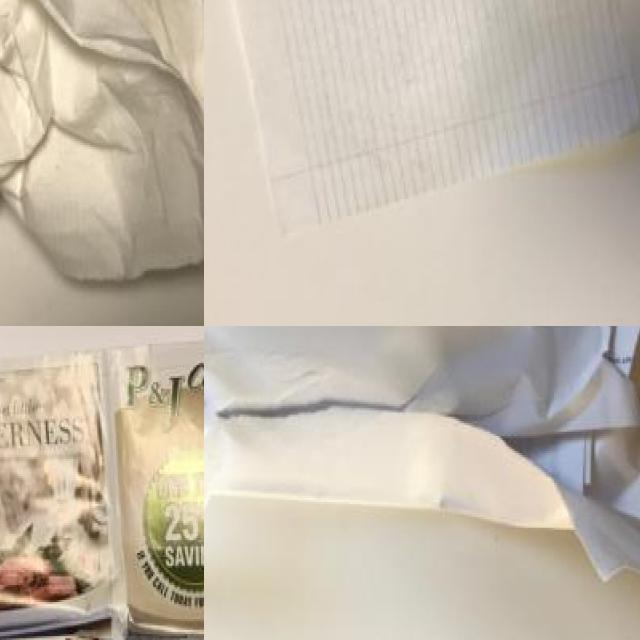paper: (204, 326, 640, 556), (222, 0, 640, 212), (0, 357, 204, 640)
trash: (0, 0, 204, 294)
